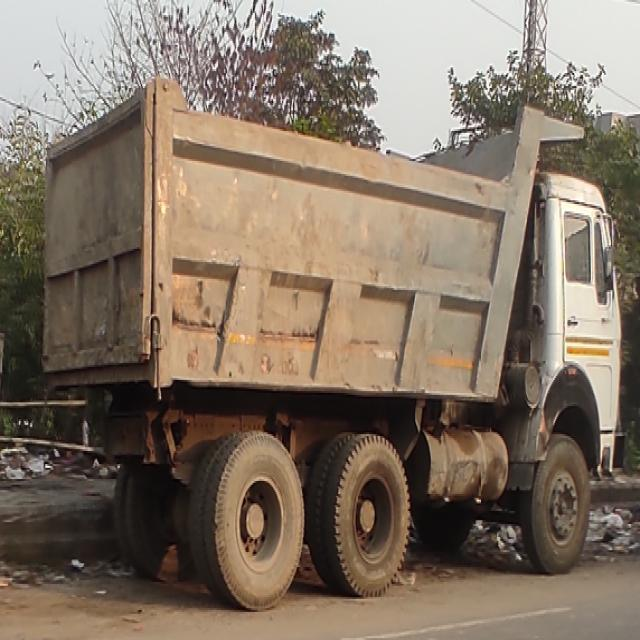truck: (44, 48, 635, 602)
